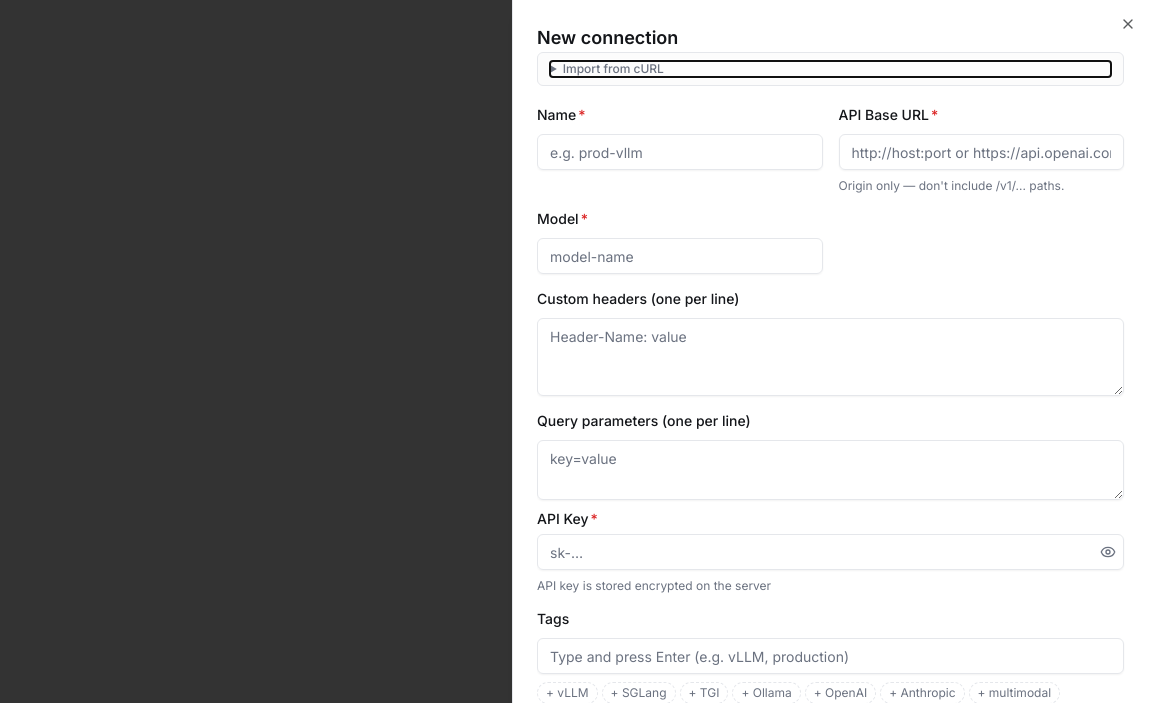
Test case: ConnectionSheet — Discover region › Discover success → silently auto-applies inferred fields (no banner)
The image size is (1152, 703).
Type "http://x" into the field labelled "API Base URL*" at x=981, y=152, box [838,134,1124,170]
(page scrolled)
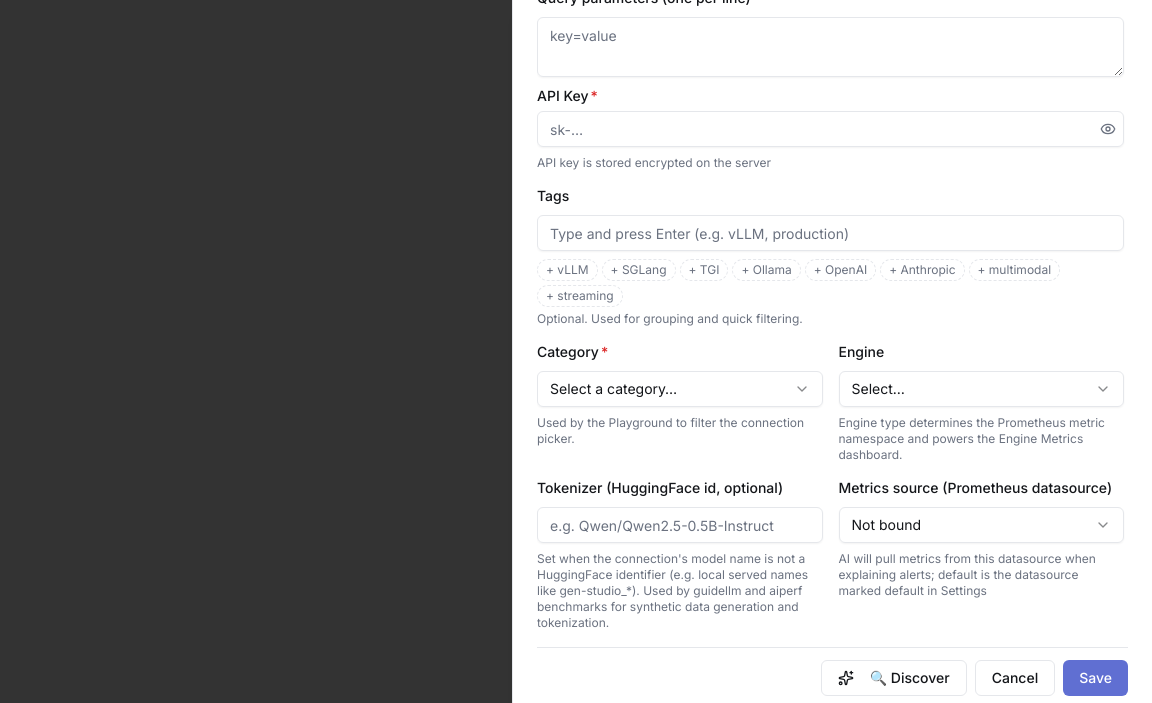
Click the button "🔍 Discover" at x=894, y=678, box [821,660,967,696]
(page scrolled)
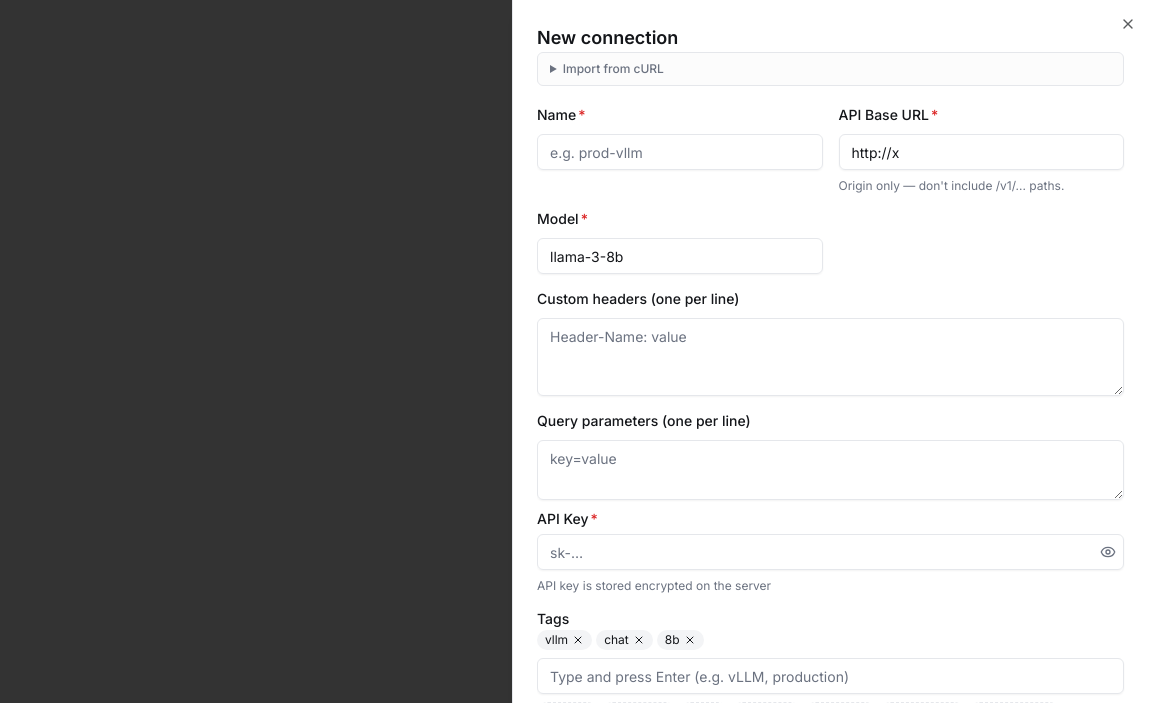
Expected: the field labelled "Model*" holds "llama-3-8b", [537,238,822,274]
